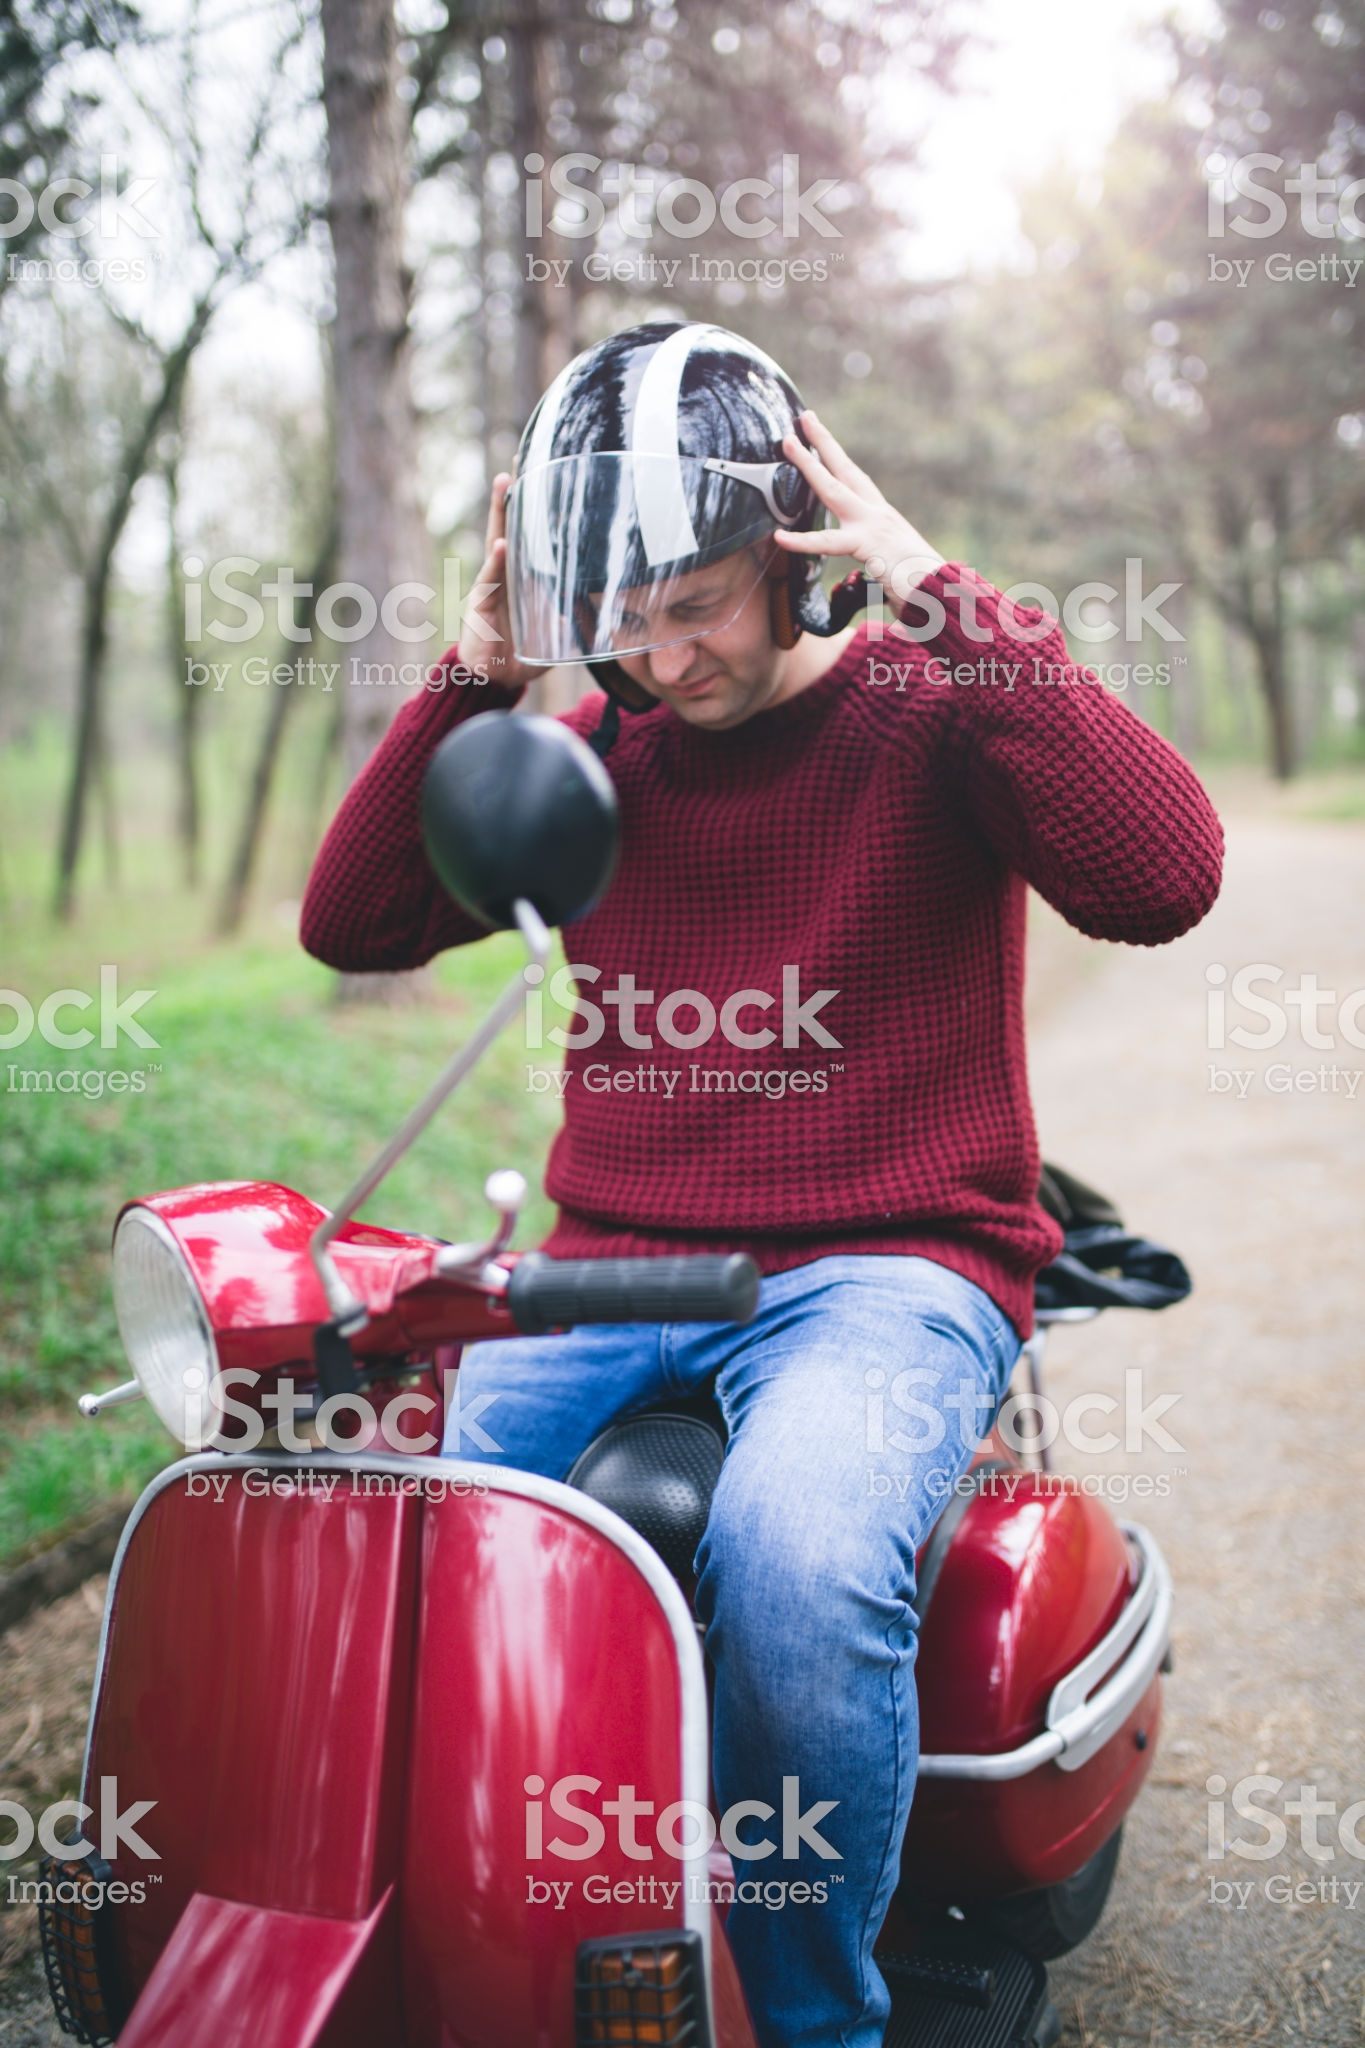helmet: (507, 303, 876, 591)
